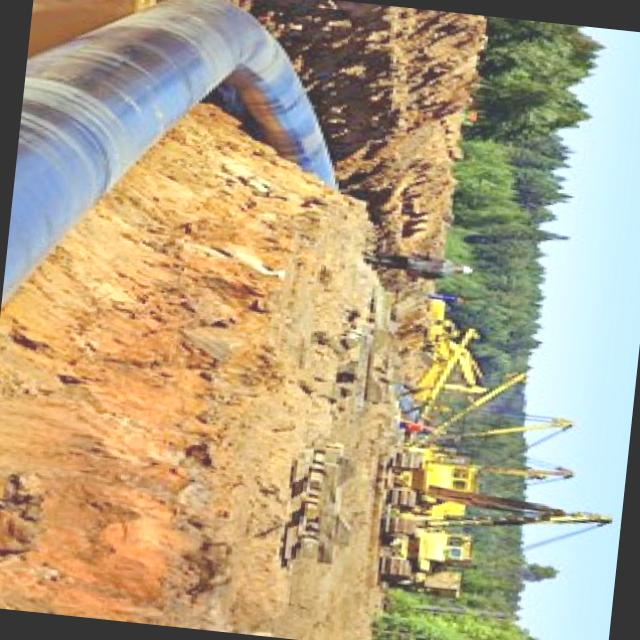gas: (0, 0, 333, 301)
